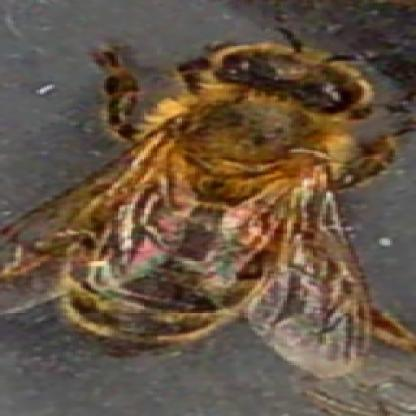bee: (32, 40, 372, 351)
